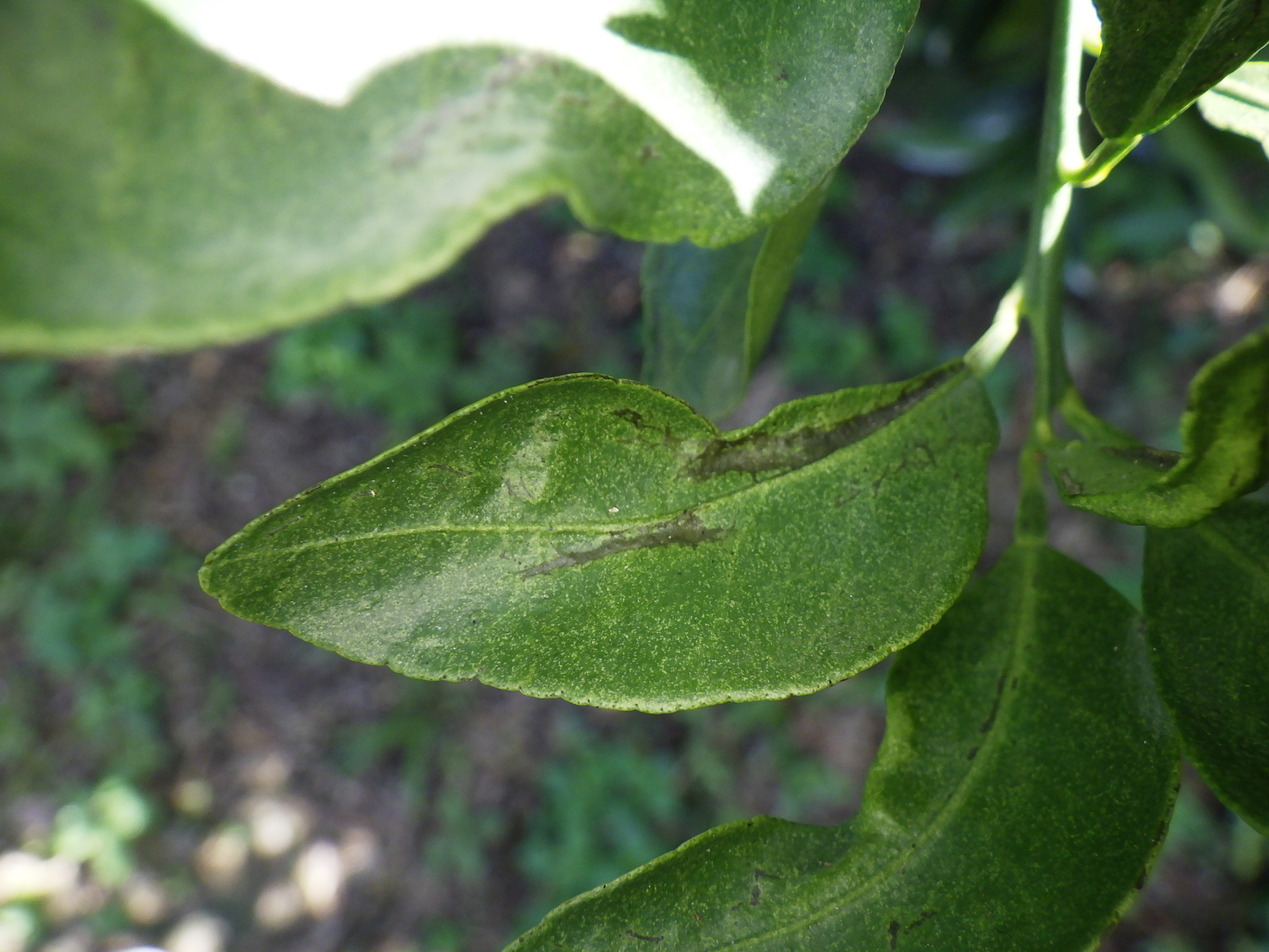Thrips_Damage: (676, 364, 960, 483), (521, 509, 726, 576)
